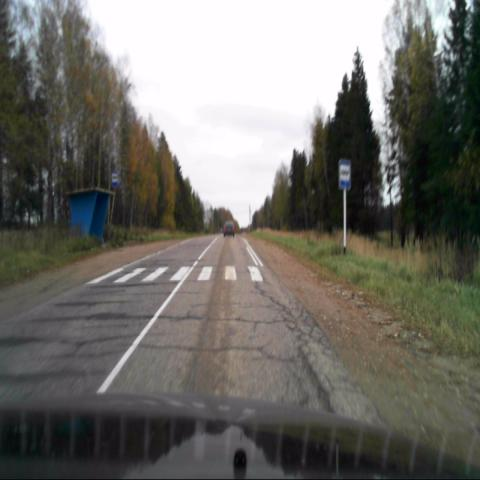5_16: (338, 156, 351, 190), (111, 170, 119, 187)
